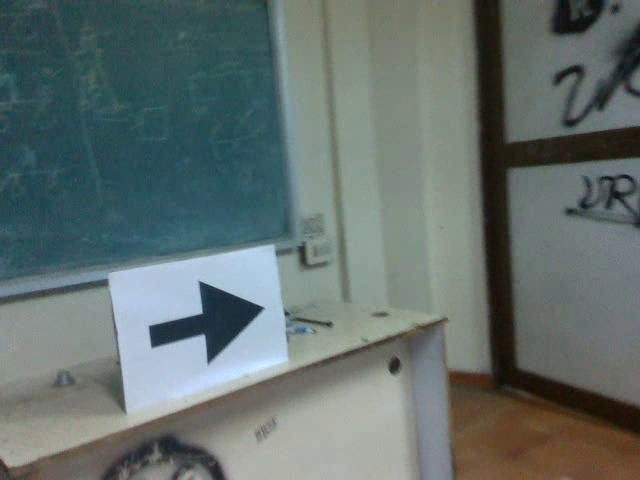Right: (141, 275, 267, 368)
